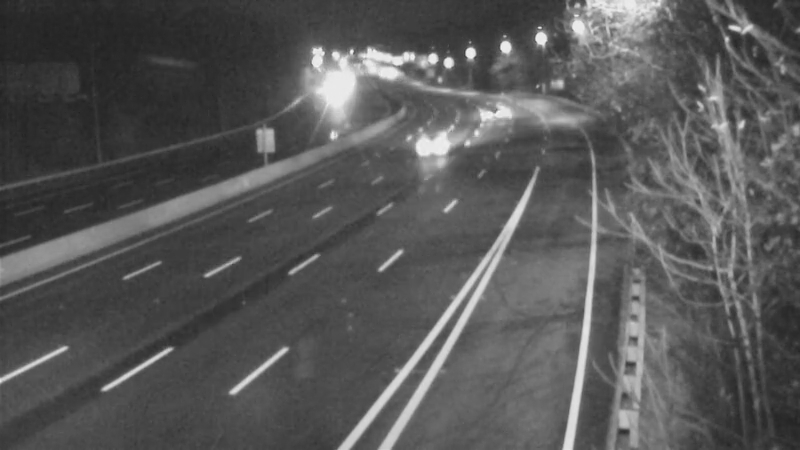vehicle: (466, 85, 516, 135), (410, 120, 460, 170), (308, 64, 358, 114)
